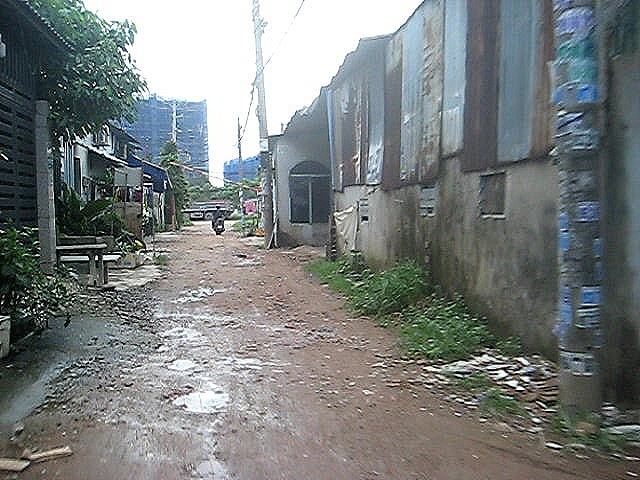hole: (153, 381, 239, 415), (188, 448, 238, 480), (173, 284, 226, 305), (224, 353, 280, 370), (155, 325, 210, 342), (162, 352, 204, 373)
